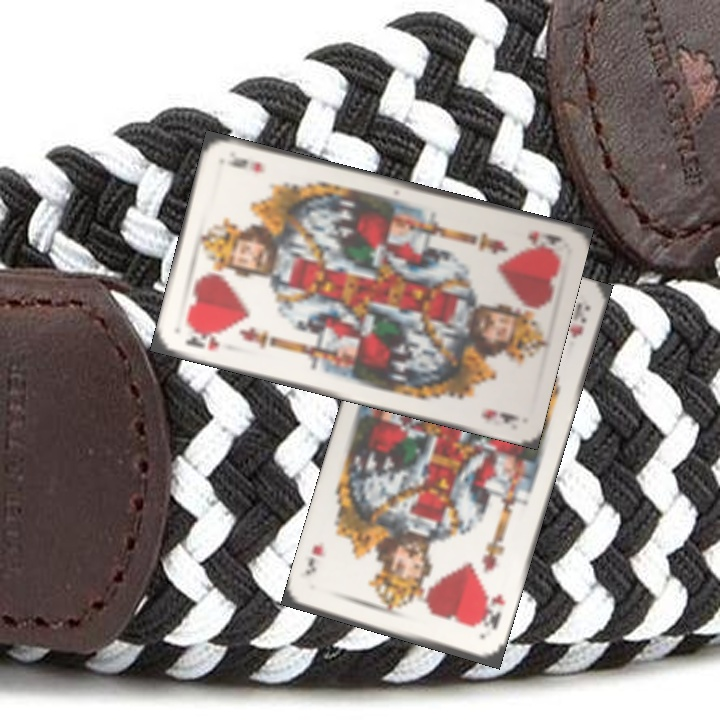HK: (476, 590, 508, 633), (180, 324, 222, 353), (523, 227, 564, 253)
